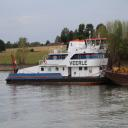tugboat: (6, 30, 112, 88)
